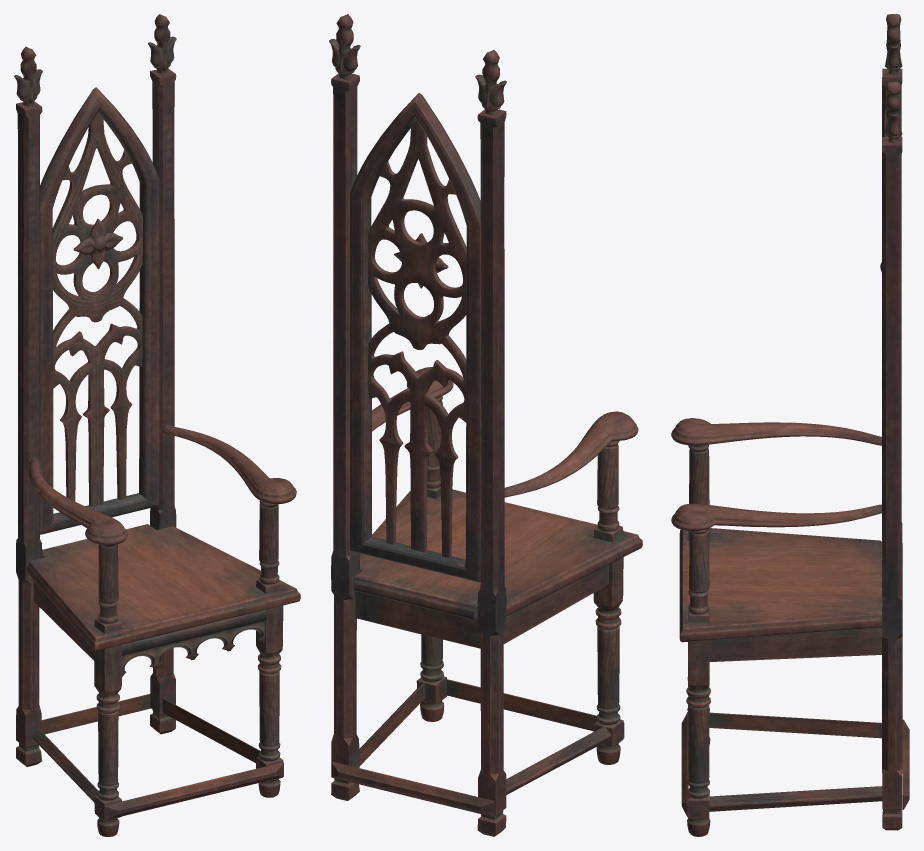
File: WoodenChair_01.glb
3 renders of one model, left to right at view 1: azimuth 30°, elevation 25°; view 2: azimuth 150°, elevation 25°; view 3: azimuth 270°, elevation 25°, orthographic. The views are drawn at different scales.
Parts seen in each view (by area): view 1: WoodenChair_01; view 2: WoodenChair_01; view 3: WoodenChair_01.
Boxes of the visible parts, bbox=[...] form: WoodenChair_01: bbox=[14, 14, 300, 836]; WoodenChair_01: bbox=[329, 14, 642, 836]; WoodenChair_01: bbox=[671, 14, 909, 836].
Size of the model in its own units: 0.6882 by 2.27 by 0.6585.
1 material, 1 textured.
